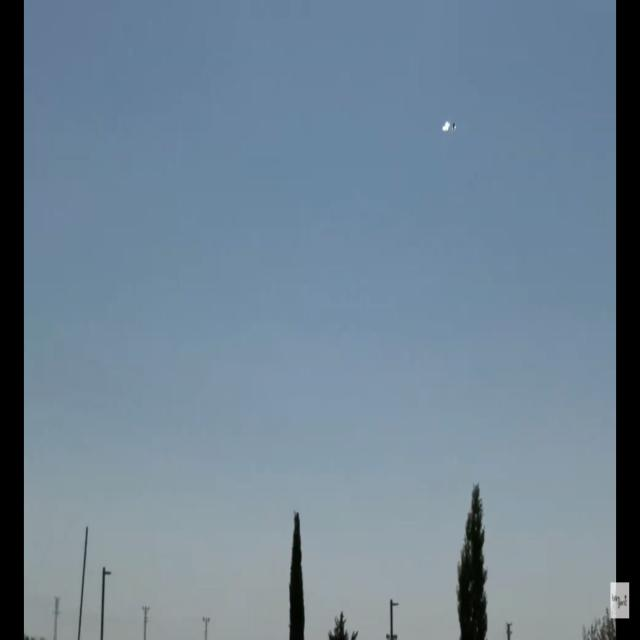iha: (442, 120, 458, 137)
